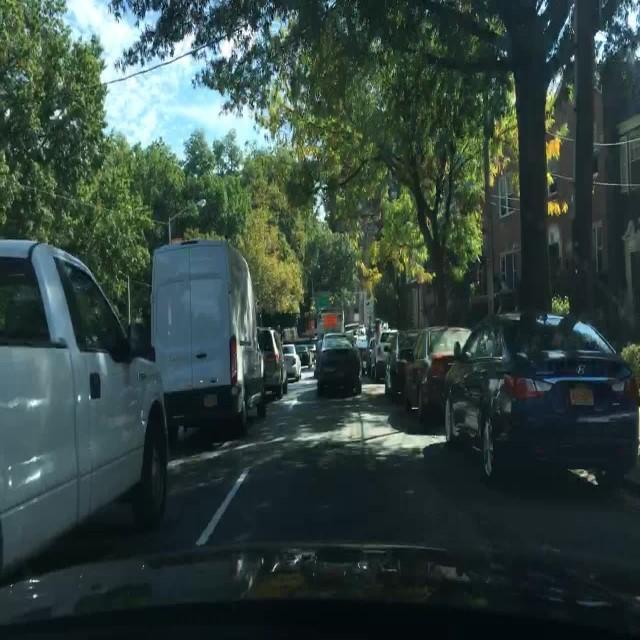normal: (384, 317, 639, 494), (149, 240, 283, 464)
